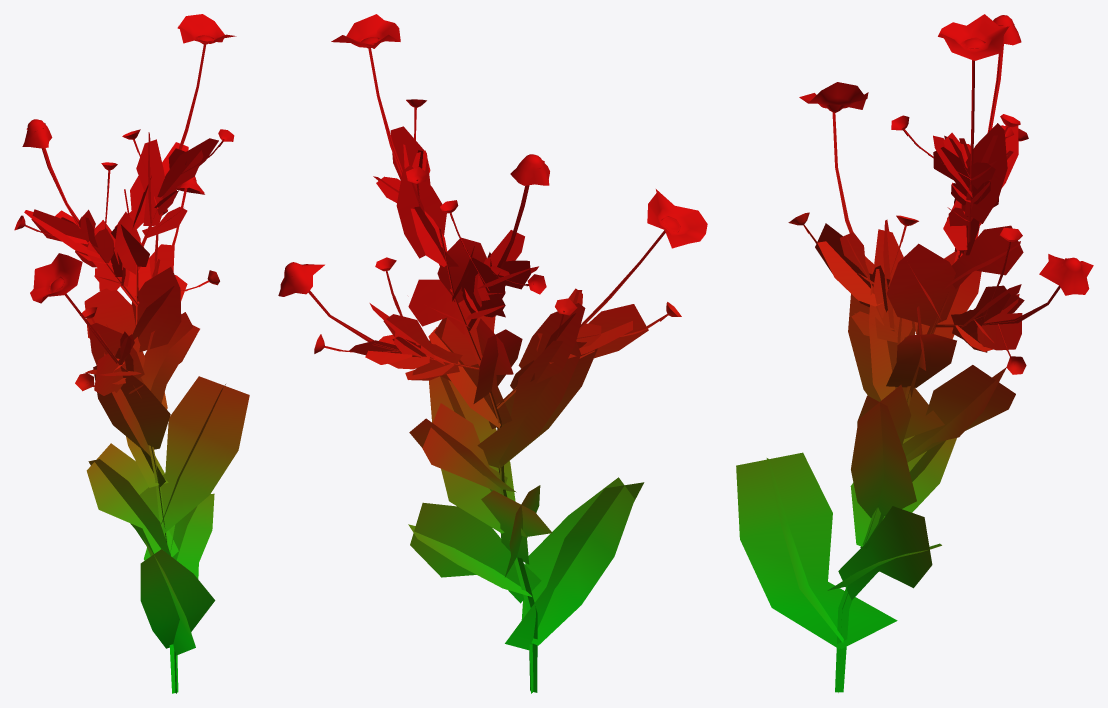
Rendered from Chamomile_LOD1_Var5_ujcnejvja.fbx.
3 renders of one model, left to right at view 1: azimuth 30°, elevation 25°; view 2: azimuth 150°, elevation 25°; view 3: azimuth 270°, elevation 25°, orthographic. The views are drawn at different scales.
Parts seen in each view (by area): view 1: _inx2_Var5_LOD1; view 2: _inx2_Var5_LOD1; view 3: _inx2_Var5_LOD1.
Part boxes in pixels (left/top/right/bottom): _inx2_Var5_LOD1: left=14, top=14, right=249, bottom=693; _inx2_Var5_LOD1: left=278, top=14, right=707, bottom=693; _inx2_Var5_LOD1: left=736, top=14, right=1093, bottom=692.
Size of the model in its own units: 23.02 by 49.35 by 22.35.
